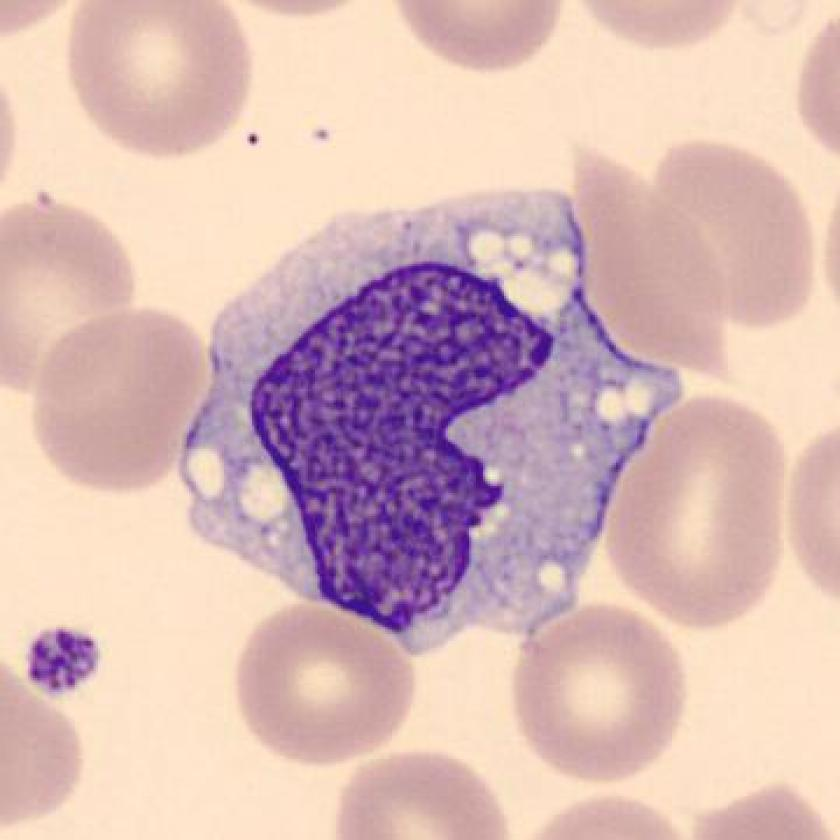monocyte: (155, 175, 701, 668)
